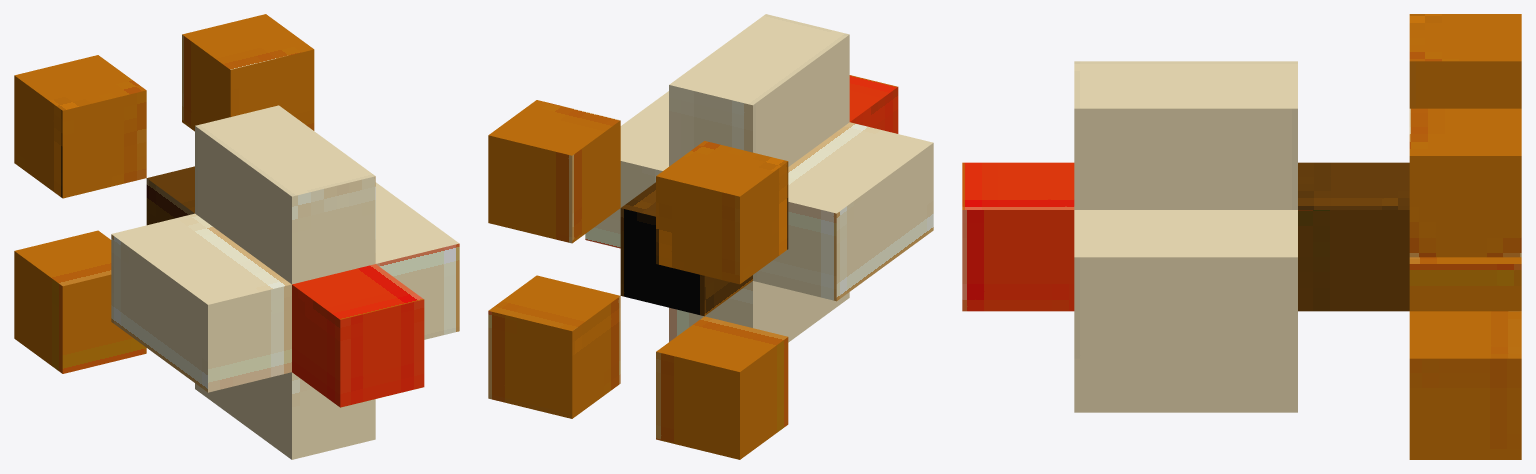
The model's file is Mine_01.FBX.
The picture shows the model from 3 angles, left to right: view 1: azimuth 30°, elevation 25°; view 2: azimuth 150°, elevation 25°; view 3: azimuth 270°, elevation 25°; orthographic projection. The views are drawn at different scales.
Parts seen in each view (by area): view 1: Mine_01; view 2: Mine_01; view 3: Mine_01.
Boxes of the visible parts, x1=… form: Mine_01: x1=14, y1=14, x2=459, y2=459; Mine_01: x1=488, y1=14, x2=933, y2=459; Mine_01: x1=962, y1=14, x2=1521, y2=459.
Size of the model in its own units: 30 by 30 by 50.
